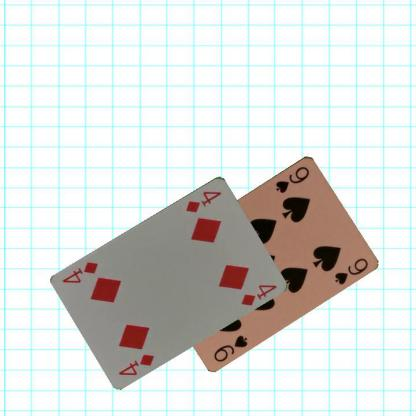4d: (183, 188, 223, 214), (116, 350, 156, 376)
9s: (273, 163, 311, 194), (211, 332, 249, 362)
